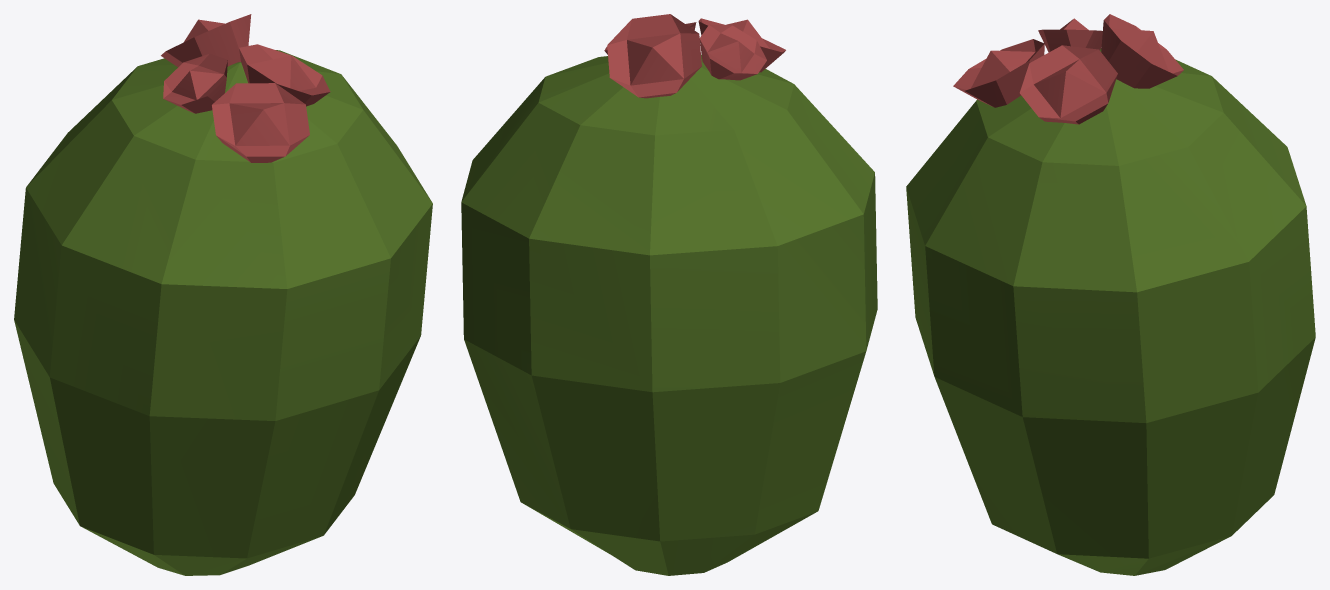
Rendered from Desert_plant_003.glb.
The picture shows the model from 3 angles, left to right: view 1: azimuth 30°, elevation 25°; view 2: azimuth 150°, elevation 25°; view 3: azimuth 270°, elevation 25°; orthographic projection.
Visible parts, largest first — view 1: Desert_plant_003; view 2: Desert_plant_003; view 3: Desert_plant_003.
Part boxes in pixels (x1=…): Desert_plant_003: x1=14, y1=14, x2=432, y2=575; Desert_plant_003: x1=461, y1=14, x2=877, y2=575; Desert_plant_003: x1=906, y1=14, x2=1315, y2=575.
Bounding box in the file's own units: 0.587 × 0.804 × 0.5546.
1 material, 1 textured.
